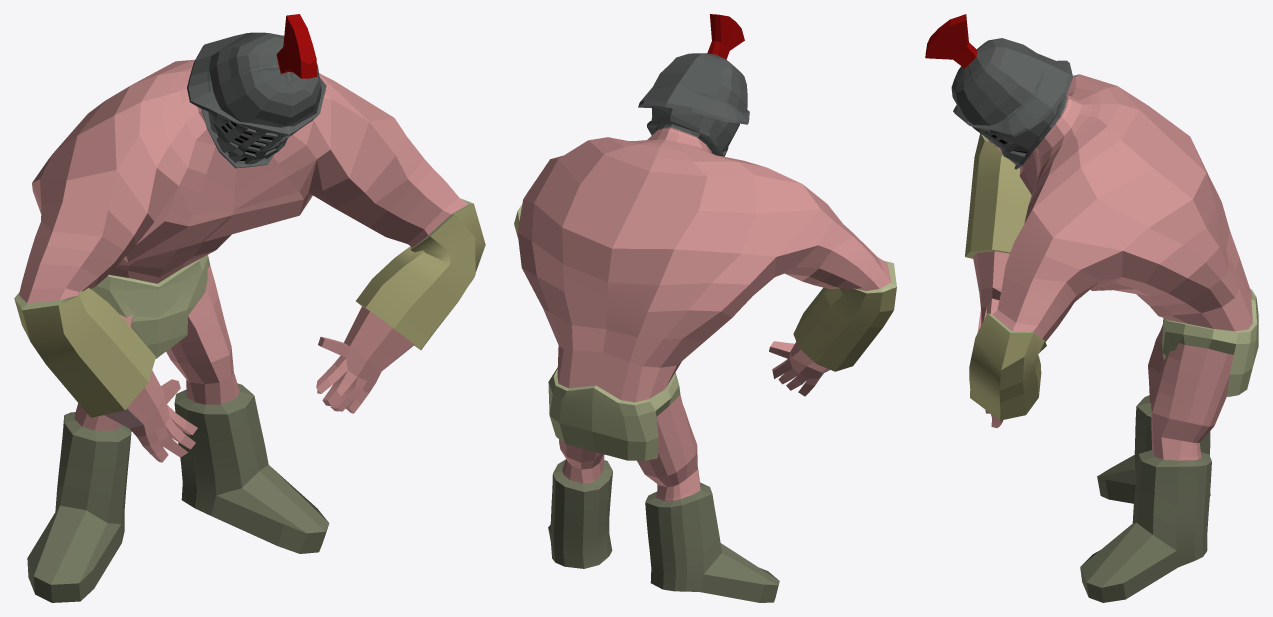
Rendered from GladiatorCelebracion_000474.obj.
3 renders of one model, left to right at view 1: azimuth 30°, elevation 25°; view 2: azimuth 150°, elevation 25°; view 3: azimuth 270°, elevation 25°, orthographic. The views are drawn at different scales.
Visible parts, largest first — view 1: Gadiador_Gladiador_H; view 2: Gadiador_Gladiador_H; view 3: Gadiador_Gladiador_H.
Boxes of the visible parts, box(x1,y1,x2,y2) form: Gadiador_Gladiador_H: box(14, 14, 485, 602); Gadiador_Gladiador_H: box(514, 14, 896, 602); Gadiador_Gladiador_H: box(925, 14, 1258, 602).
Bounding box in the file's own units: 5.03 × 6.42 × 3.59.
Materials: 1 (1 with a texture image).
